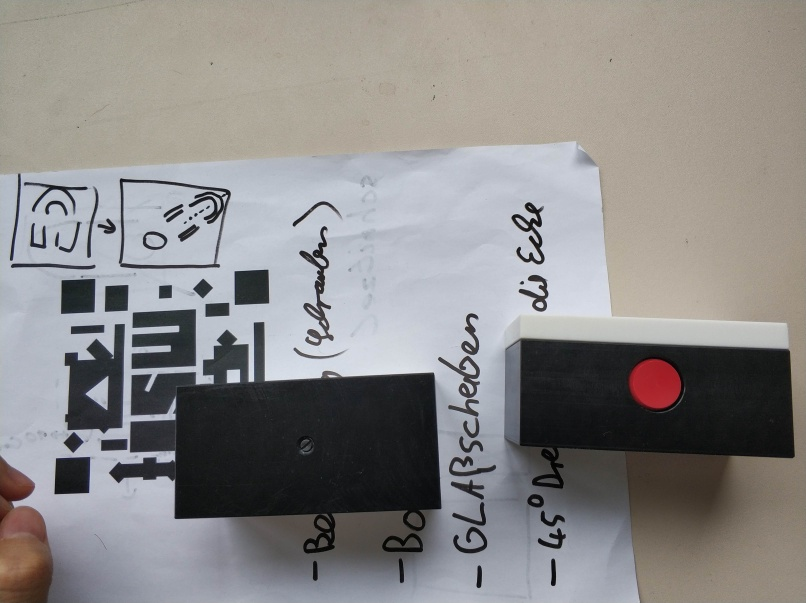white+black+red: (500, 316, 799, 460)
